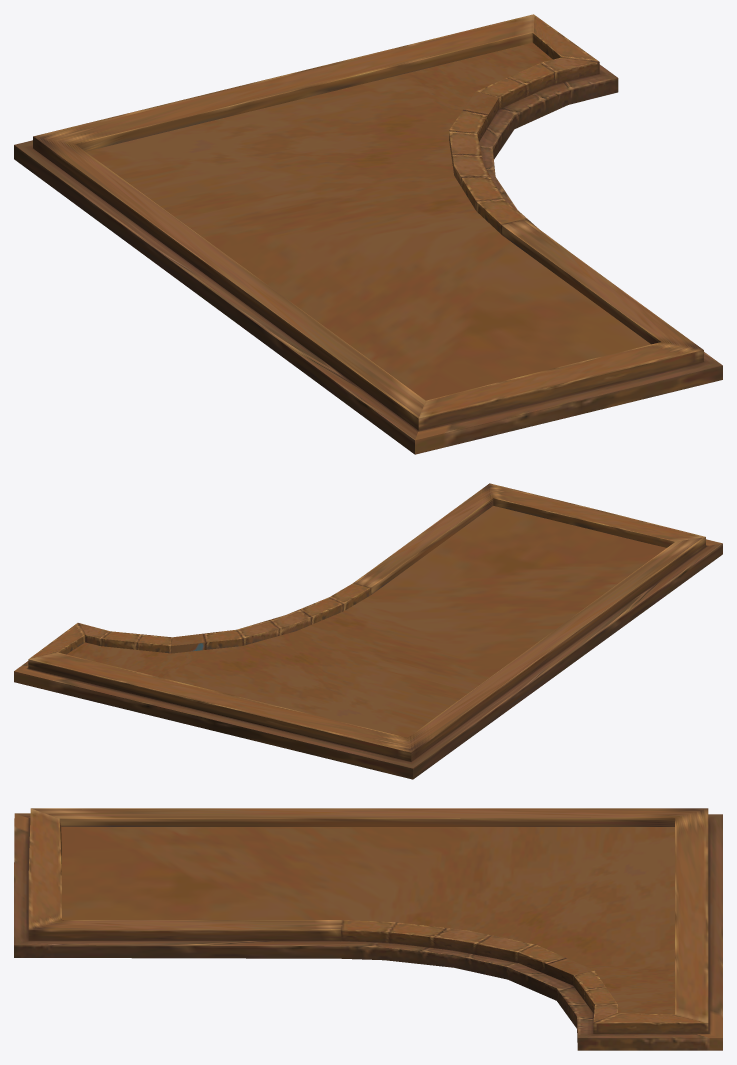
Rendered from shakian_construct_altartile01_01.FBX.
3 renders of one model, top to bottom at view 1: azimuth 30°, elevation 25°; view 2: azimuth 150°, elevation 25°; view 3: azimuth 270°, elevation 25°, orthographic. The views are drawn at different scales.
Visible parts, largest first — view 1: shakian_construct_altartile01_01; view 2: shakian_construct_altartile01_01; view 3: shakian_construct_altartile01_01.
Part boxes in pixels (box(x1,y1,x2,y2)): shakian_construct_altartile01_01: box(14, 14, 722, 454); shakian_construct_altartile01_01: box(14, 483, 722, 779); shakian_construct_altartile01_01: box(14, 808, 722, 1050).
Size of the model in its own units: 9.94 by 0.4768 by 13.26.
